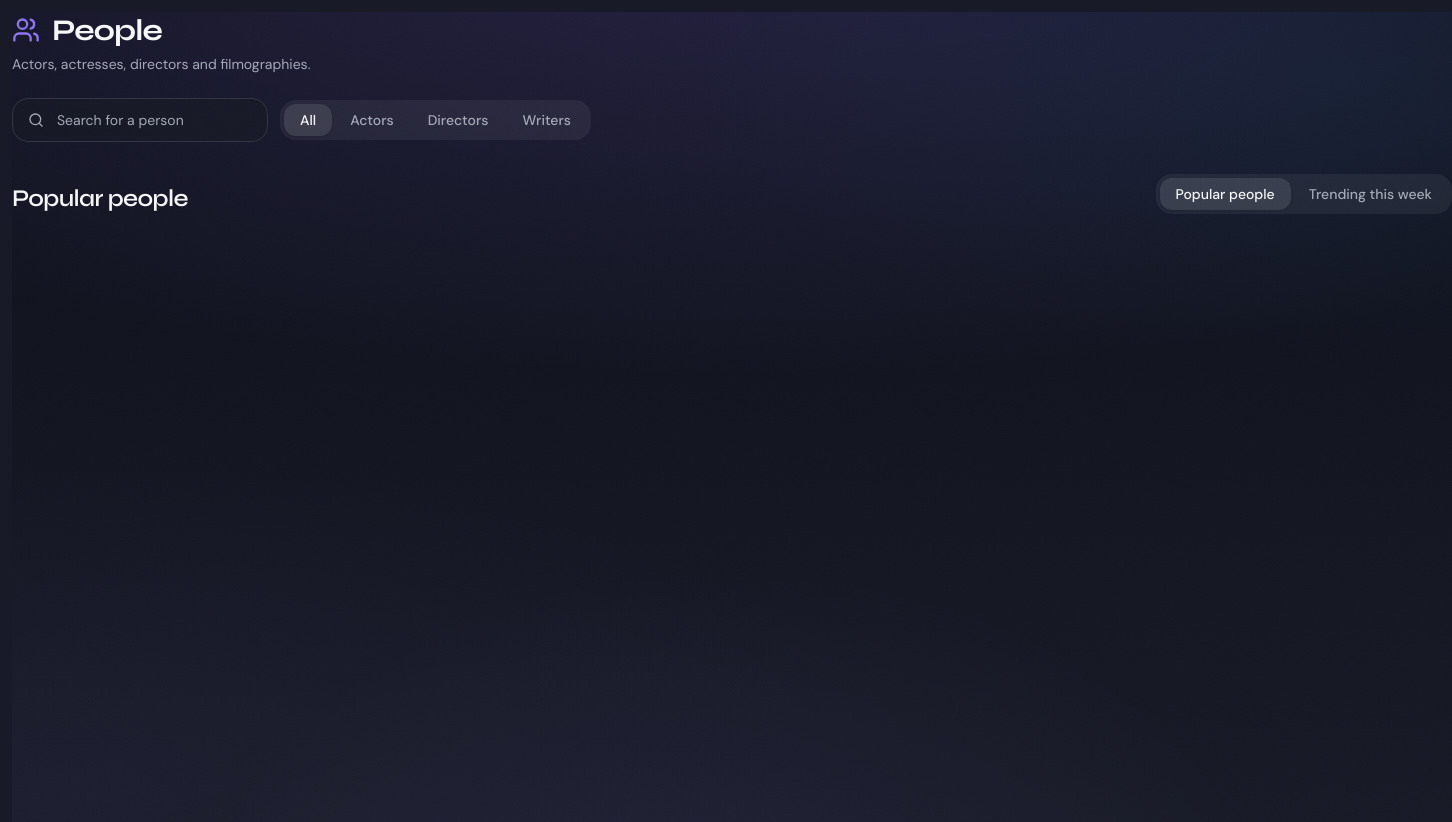
PeoplePage › shows an empty state when the department filter narrows real results down to none
Click the button "Writers" at x=547, y=120, box [506,104,587,136]
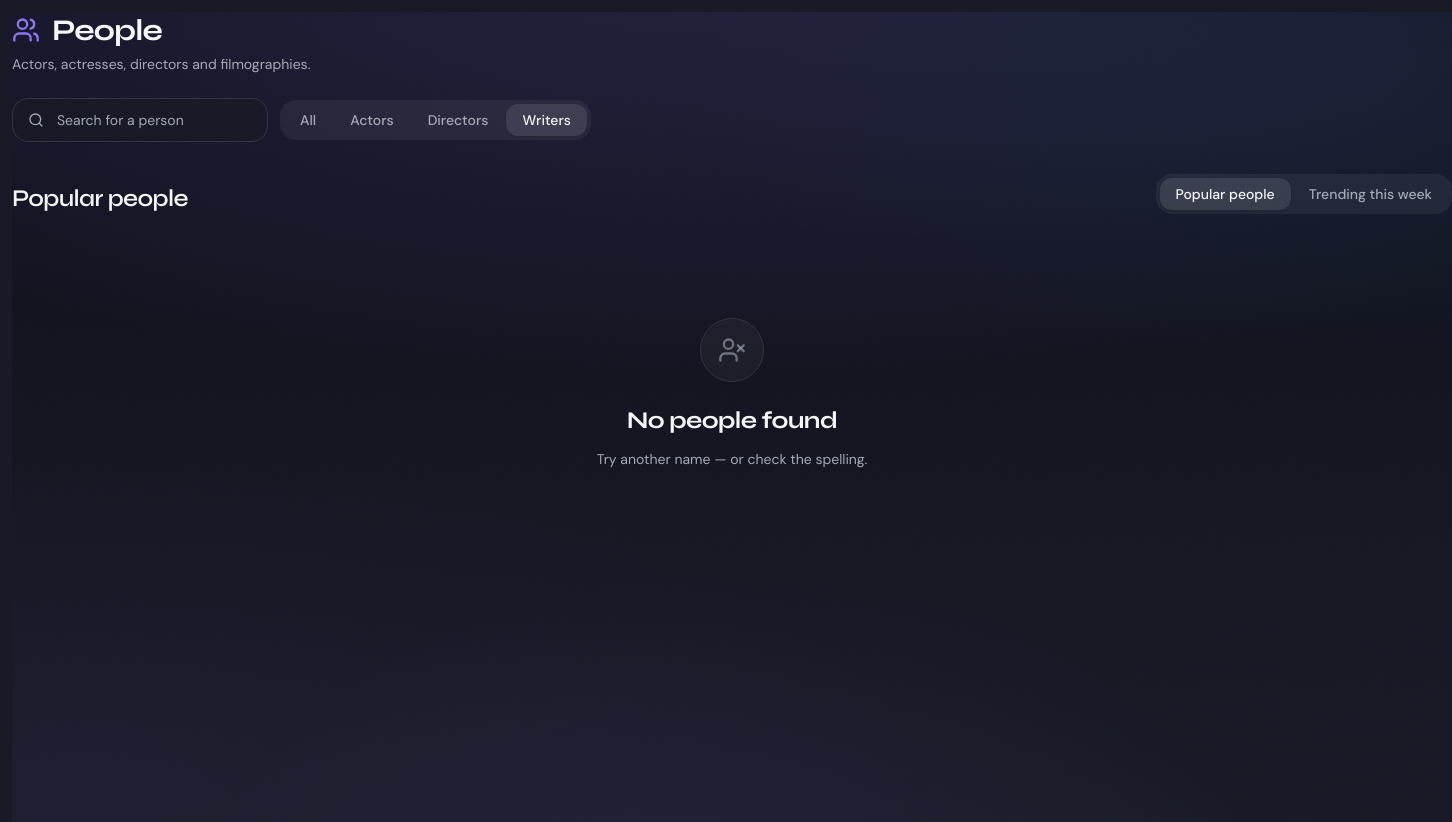
Expected: the text "No people found" is shown, [627,406,837,436]
